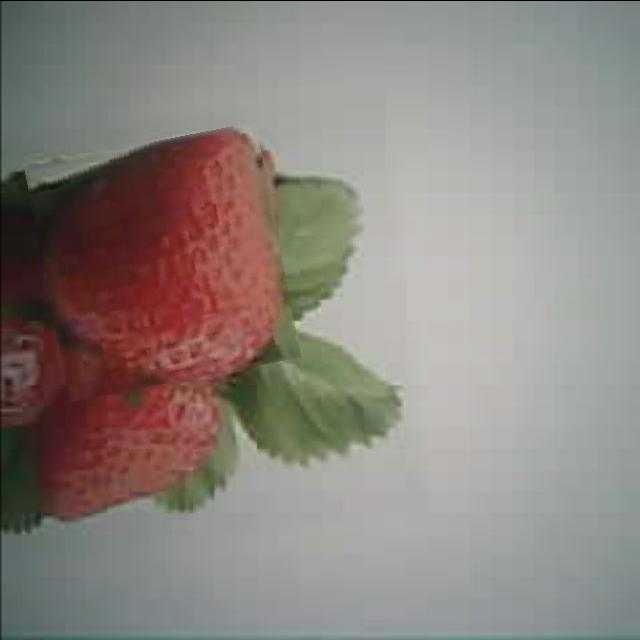strawberry: (34, 130, 290, 390)
